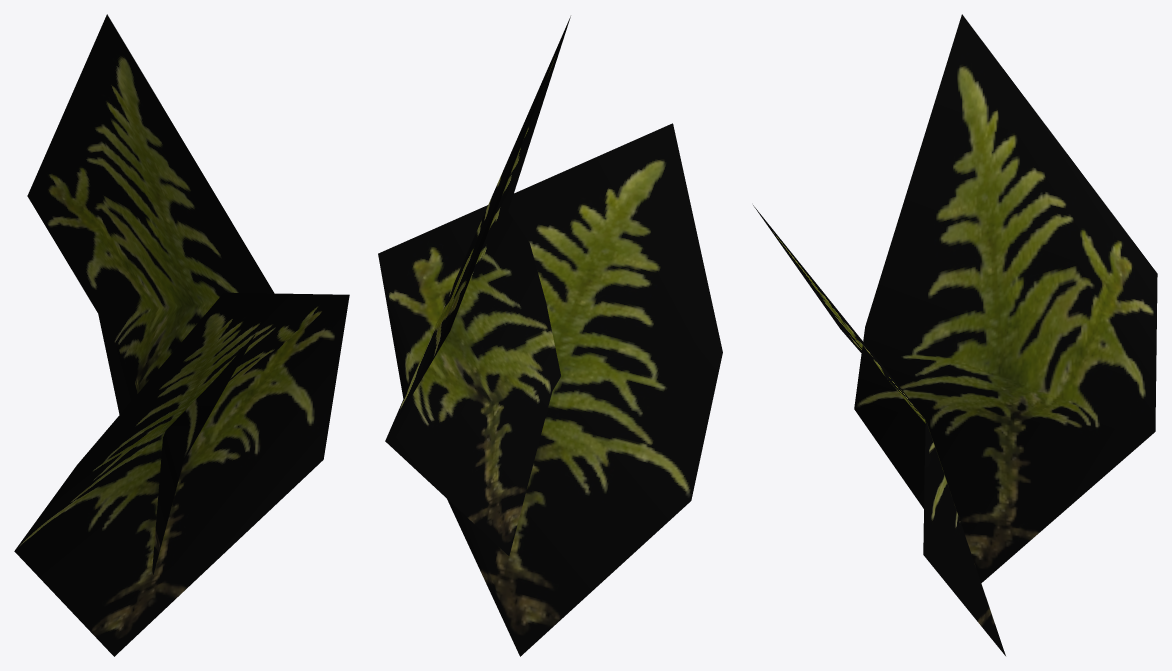
File: moss_01_b.glb
The picture shows the model from 3 angles, left to right: view 1: azimuth 30°, elevation 25°; view 2: azimuth 150°, elevation 25°; view 3: azimuth 270°, elevation 25°; orthographic projection. The views are drawn at different scales.
Parts seen in each view (by area): view 1: moss_01_d_LOD0; view 2: moss_01_d_LOD0; view 3: moss_01_d_LOD0.
Part boxes in pixels (<box>): moss_01_d_LOD0: <box>14,14,349,656</box>; moss_01_d_LOD0: <box>378,16,722,656</box>; moss_01_d_LOD0: <box>753,14,1157,655</box>.
Bounding box in the file's own units: 0.0139 × 0.0267 × 0.0156.
Materials: 1 (1 with a texture image).
